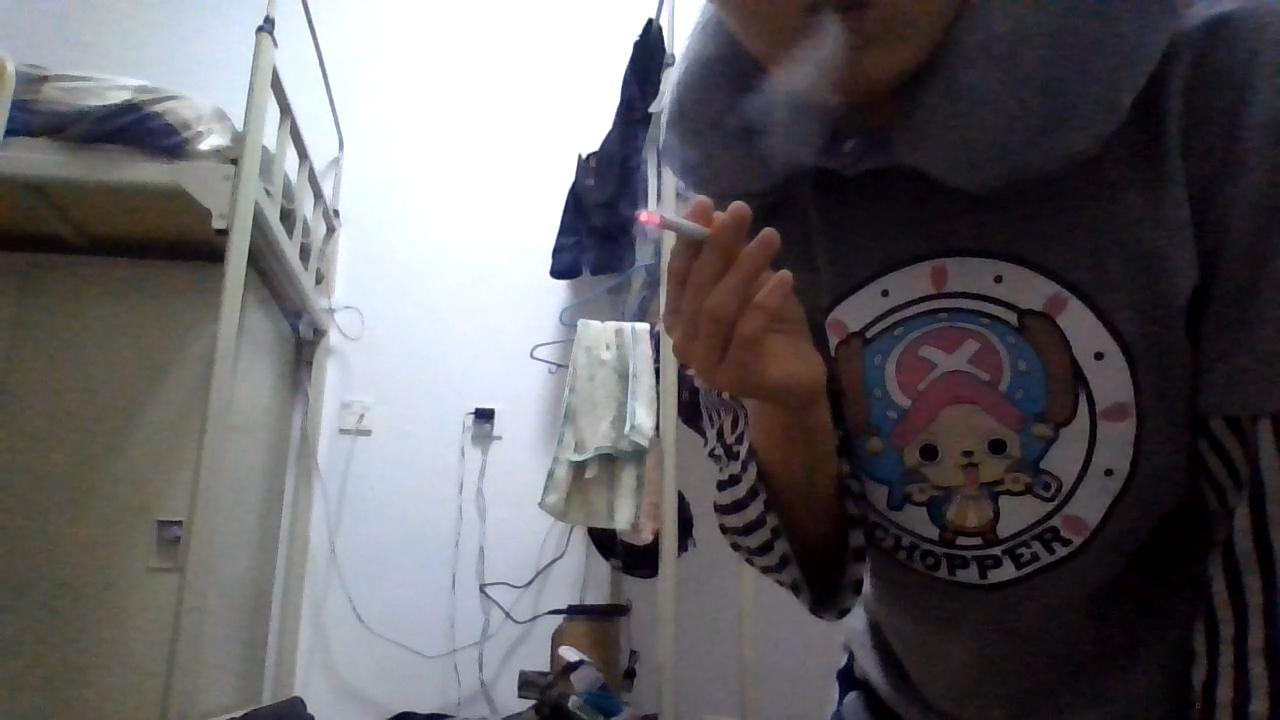yanwu: (736, 27, 845, 160)
